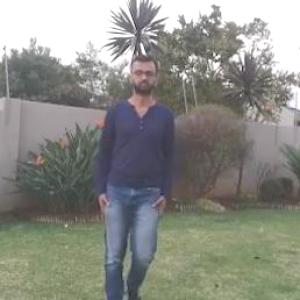follow: (99, 73, 165, 299)
